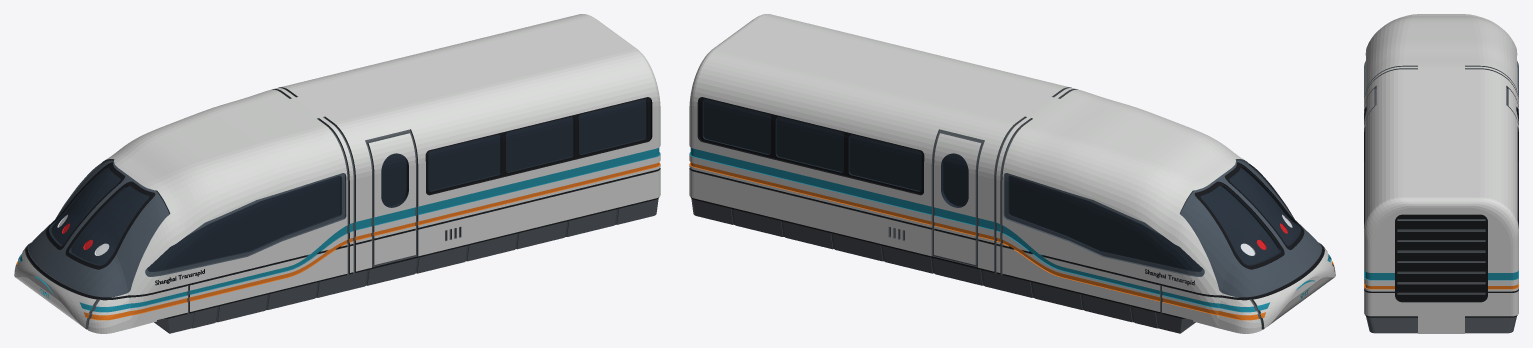
Rendered from maglev.glb.
The picture shows the model from 3 angles, left to right: view 1: azimuth 30°, elevation 25°; view 2: azimuth 150°, elevation 25°; view 3: azimuth 270°, elevation 25°; orthographic projection. The views are drawn at different scales.
Parts seen in each view (by area): view 1: smt_maglev; view 2: smt_maglev; view 3: smt_maglev.
Boxes of the visible parts, x1,y1,x2,y2 form: smt_maglev: [14, 14, 660, 333]; smt_maglev: [689, 14, 1335, 333]; smt_maglev: [1364, 14, 1518, 333].
Bounding box in the file's own units: 150 × 38 × 40.
